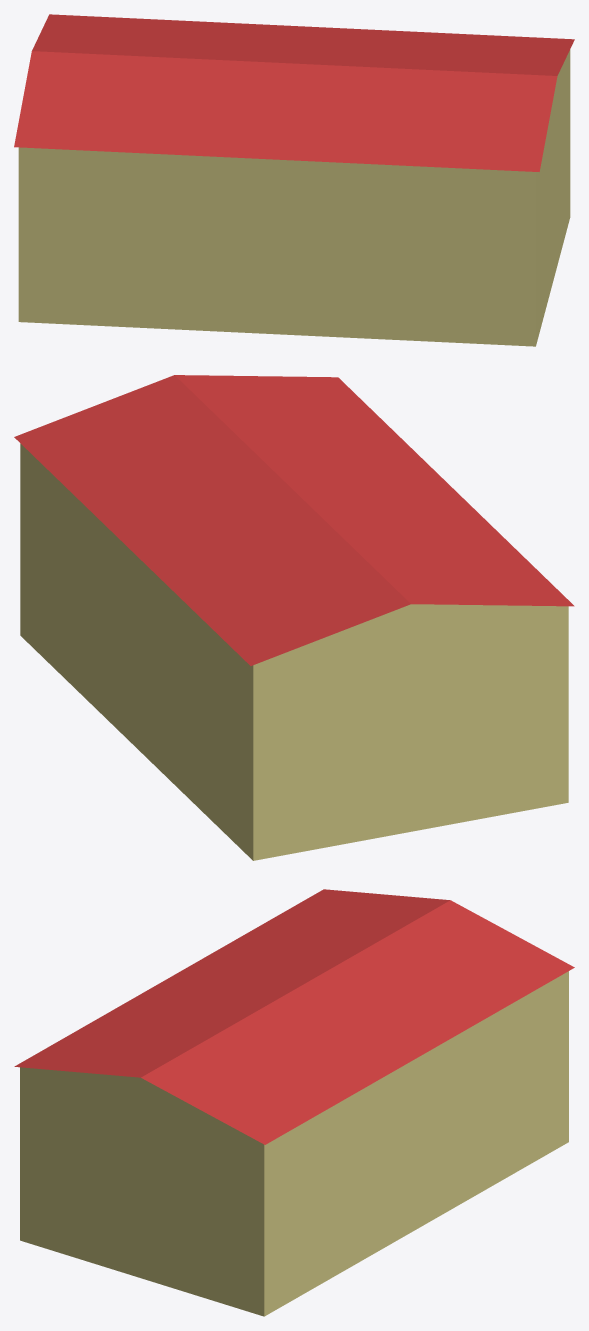
3 views of the same model, one above another, from view 1: azimuth 30°, elevation 25°; view 2: azimuth 150°, elevation 25°; view 3: azimuth 270°, elevation 25° (orthographic). The views are drawn at different scales.
Size of the model in its own units: 36.03 by 33.39 by 13.32.
